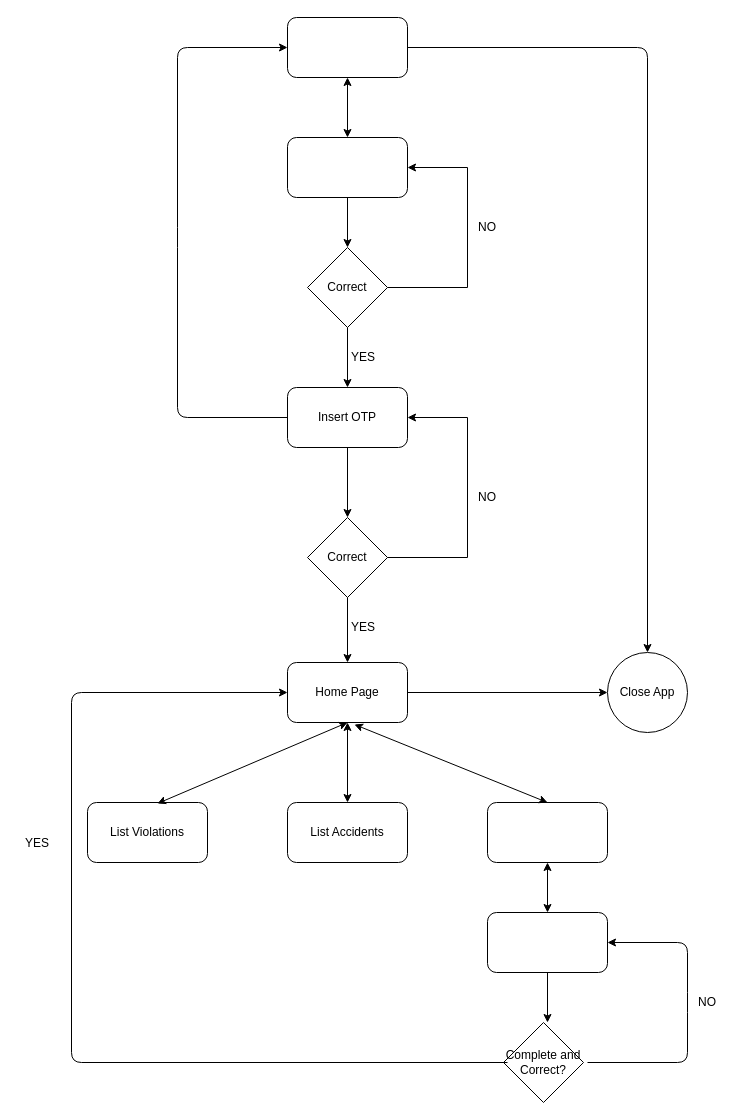
The diagram is 744 pixels wide and 1120 high, and some of its shapes have lost their labels. Here are the shapes that lost their labels. From the top down, the centre of each, then its label:
point 347,47: Startup page
point 347,167: Insert Phone Number
point 547,832: File Report
point 547,942: Fill form
